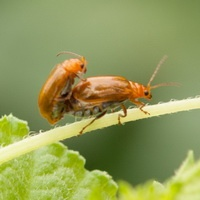insect: (38, 52, 179, 132)
